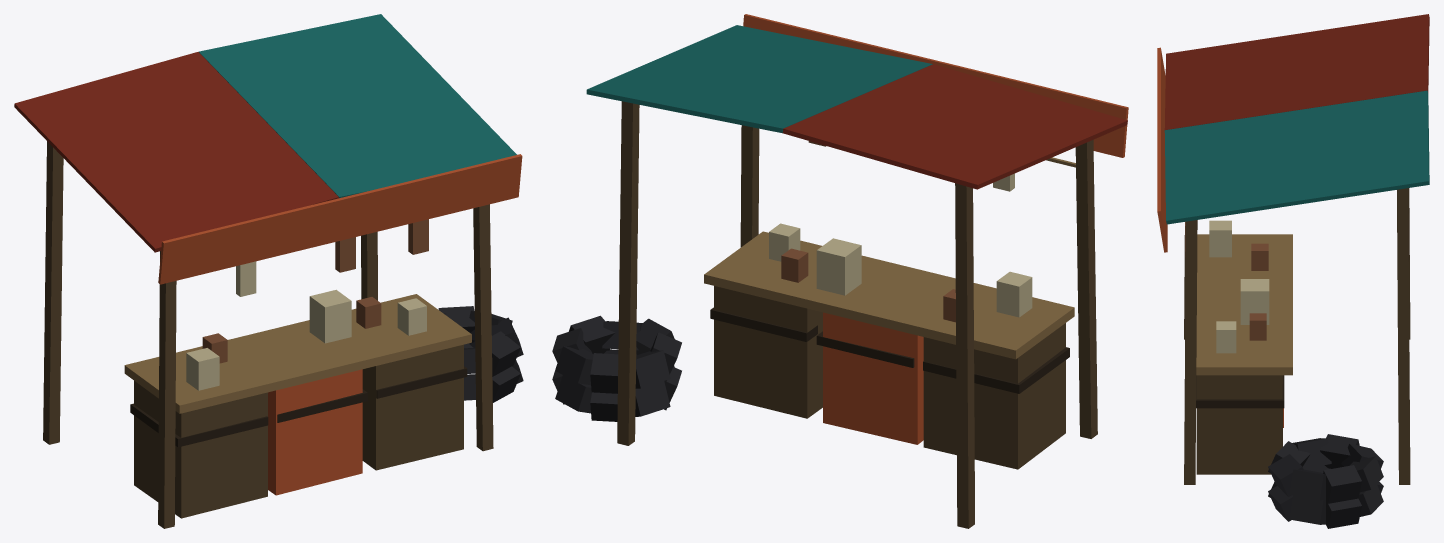
File: hollis_raider_stall.glb
3 views of the same model, side by side, from view 1: azimuth 30°, elevation 25°; view 2: azimuth 150°, elevation 25°; view 3: azimuth 270°, elevation 25° (orthographic). The views are drawn at different scales.
Visible parts, largest first — view 1: hollis_raider_stall; view 2: hollis_raider_stall; view 3: hollis_raider_stall.
Part boxes in pixels (bbox=[...]): hollis_raider_stall: bbox=[14, 14, 523, 528]; hollis_raider_stall: bbox=[552, 14, 1128, 528]; hollis_raider_stall: bbox=[1157, 14, 1429, 528].
Bounding box in the file's own units: 3.36 × 2.48 × 1.9.
